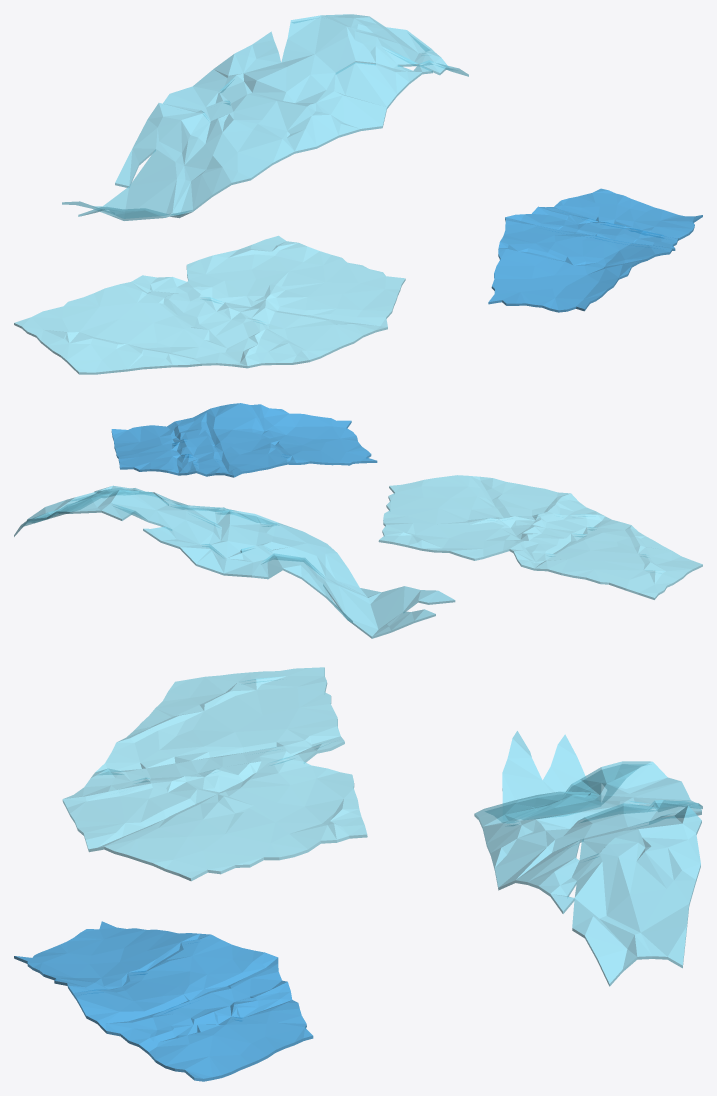
Rendered from film.glb.
3 views of the same model, one above another, from view 1: azimuth 30°, elevation 25°; view 2: azimuth 150°, elevation 25°; view 3: azimuth 270°, elevation 25° (orthographic). The views are drawn at different scales.
Parts seen in each view (by area): view 1: film; view 2: film; view 3: film.
Part boxes in pixels (<box>): film: <box>14,14,702,374</box>; film: <box>14,403,702,638</box>; film: <box>14,667,702,1081</box>.
Bounding box in the file's own units: 0.353 × 0.06 × 0.2586.
